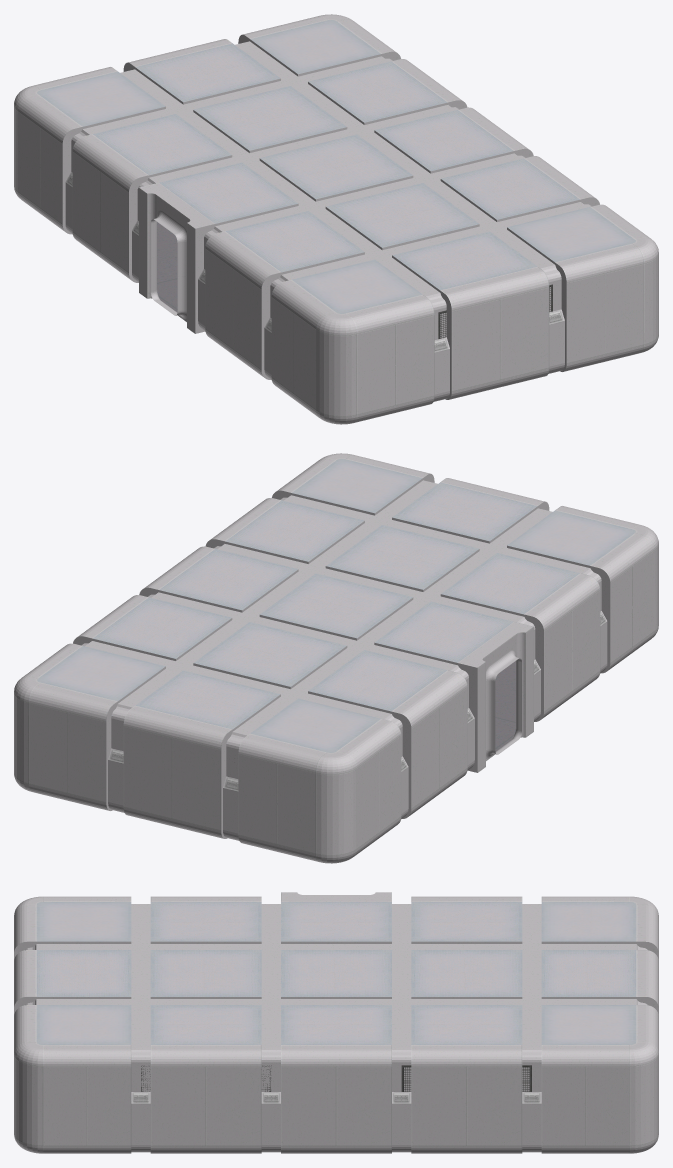
File: thm_spc_corvette_dungeon_r38_meetingroom38_mesh_r38.fbx
3 renders of one model, top to bottom at view 1: azimuth 30°, elevation 25°; view 2: azimuth 150°, elevation 25°; view 3: azimuth 270°, elevation 25°, orthographic.
Visible parts, largest first — view 1: mesh_node; view 2: mesh_node; view 3: mesh_node.
Boxes of the visible parts, x1,y1,x2,y2 form: mesh_node: [14, 14, 658, 424]; mesh_node: [14, 453, 658, 863]; mesh_node: [14, 892, 658, 1153].
Size of the model in its own units: 11.9 by 3.5 by 19.8.
